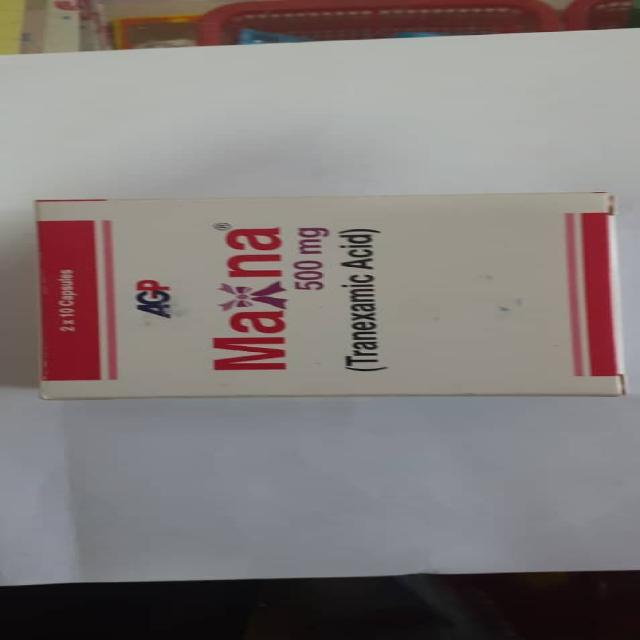drug-name: (208, 212, 290, 374)
